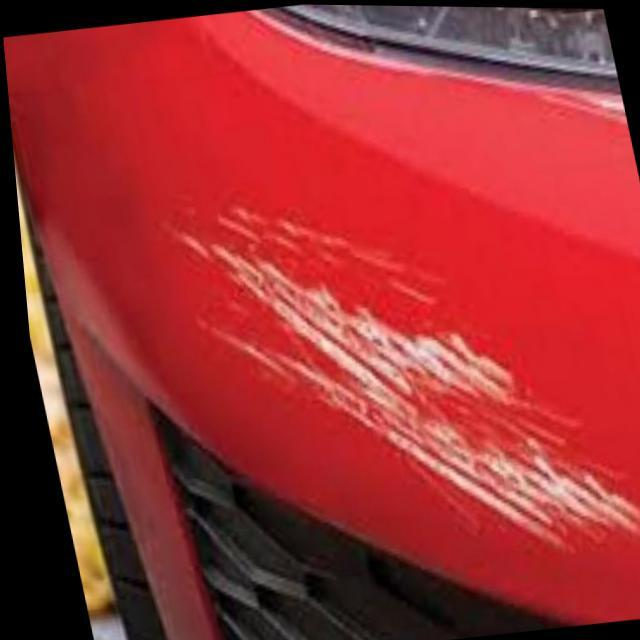rub: (160, 208, 640, 555)
